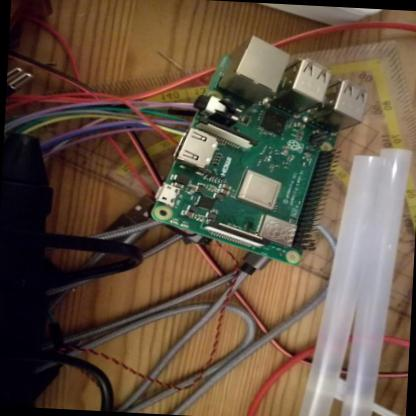Raspberry_Pi_3: (148, 27, 372, 273)
